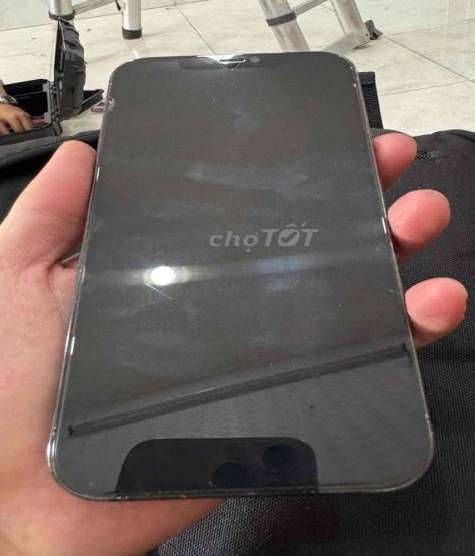physical_damage: (78, 249, 422, 453), (90, 78, 139, 125), (196, 49, 254, 78)
